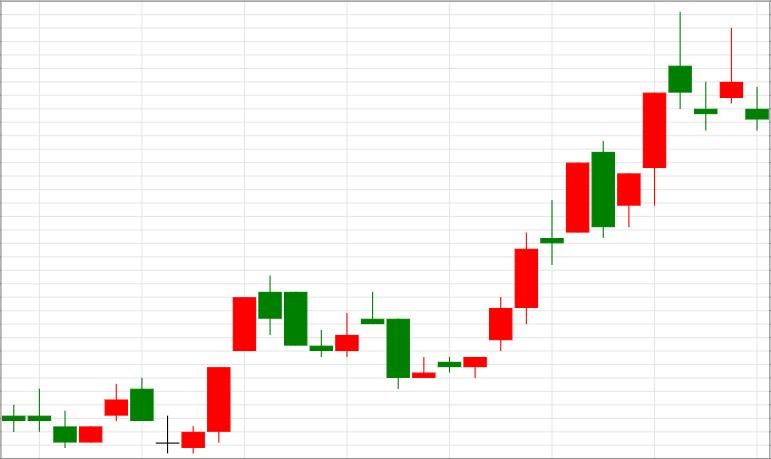shooting_star_fall: (464, 11, 692, 377)
